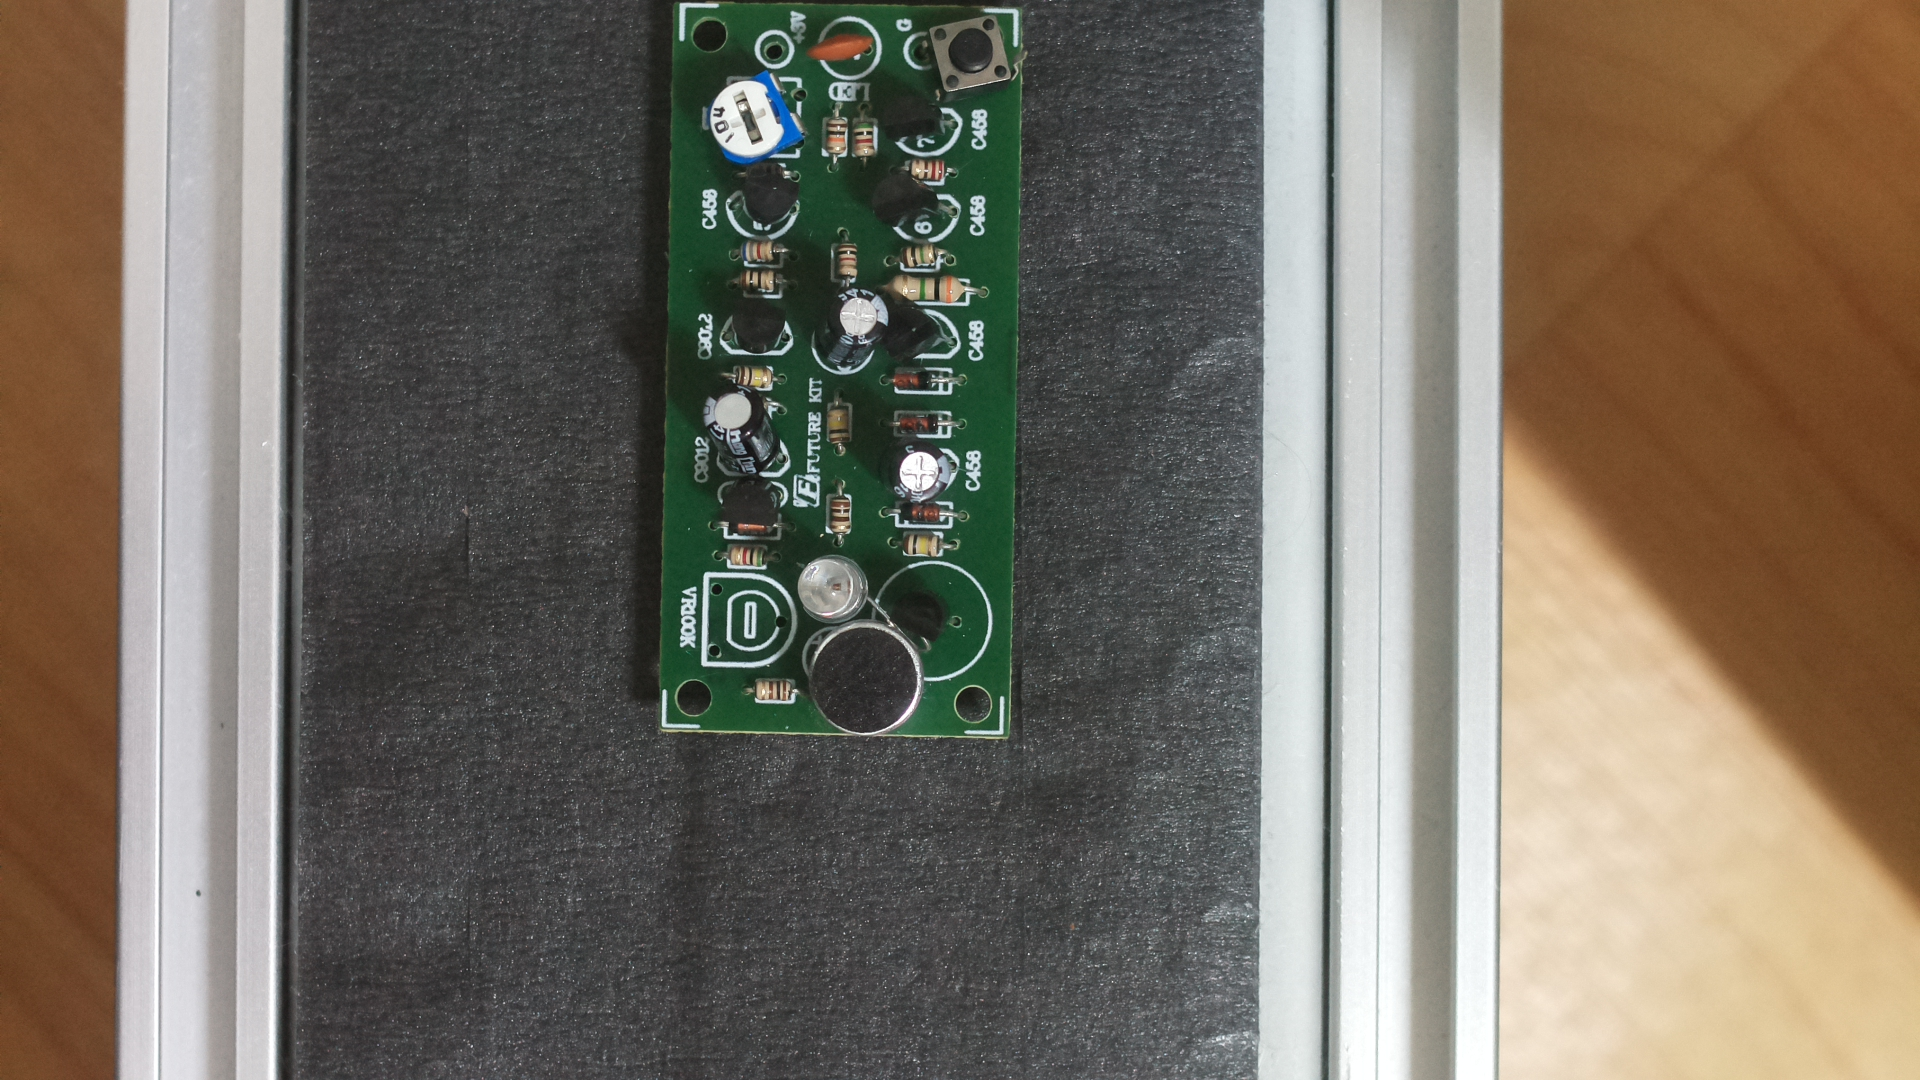A_Misordered: (662, 3, 1036, 750)
